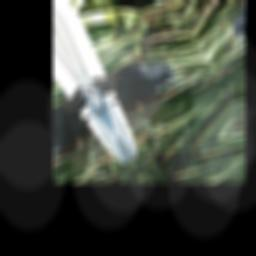Crow: (85, 40, 180, 123)
